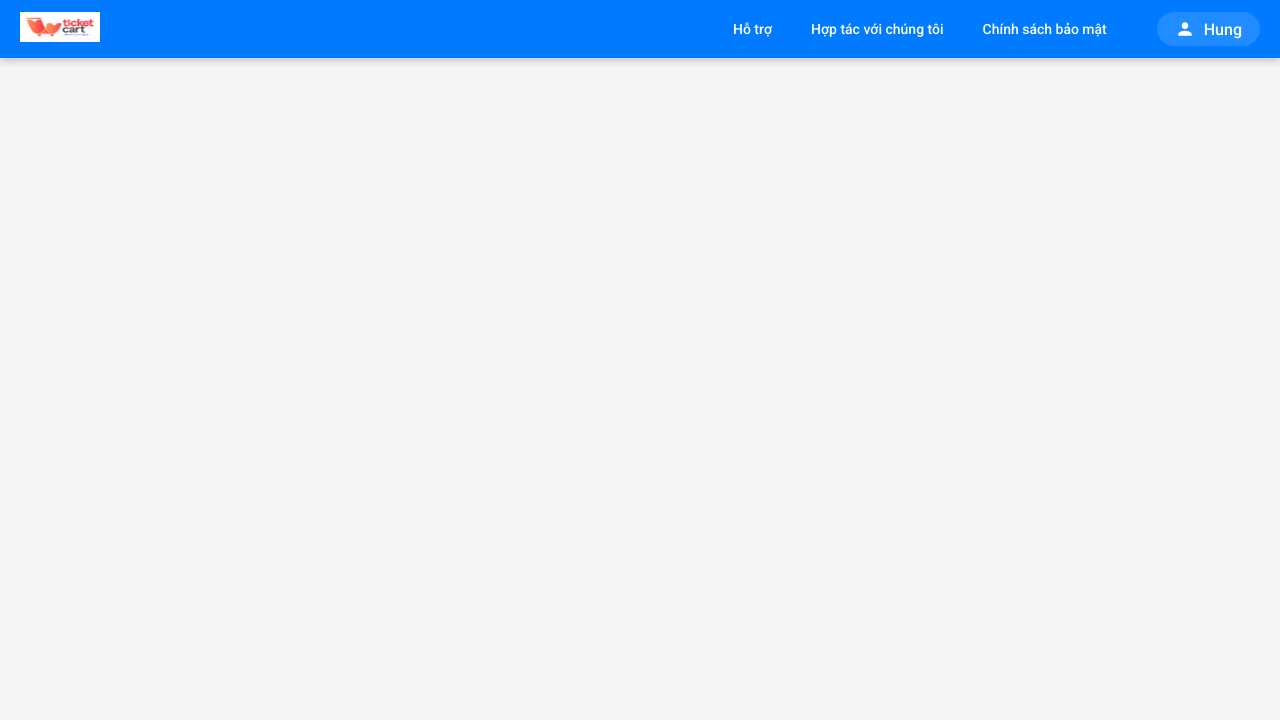
Test: Navbar Component › handles logout correctly
Click the text "Hung" at (1223, 29), box [1204, 20, 1242, 38]
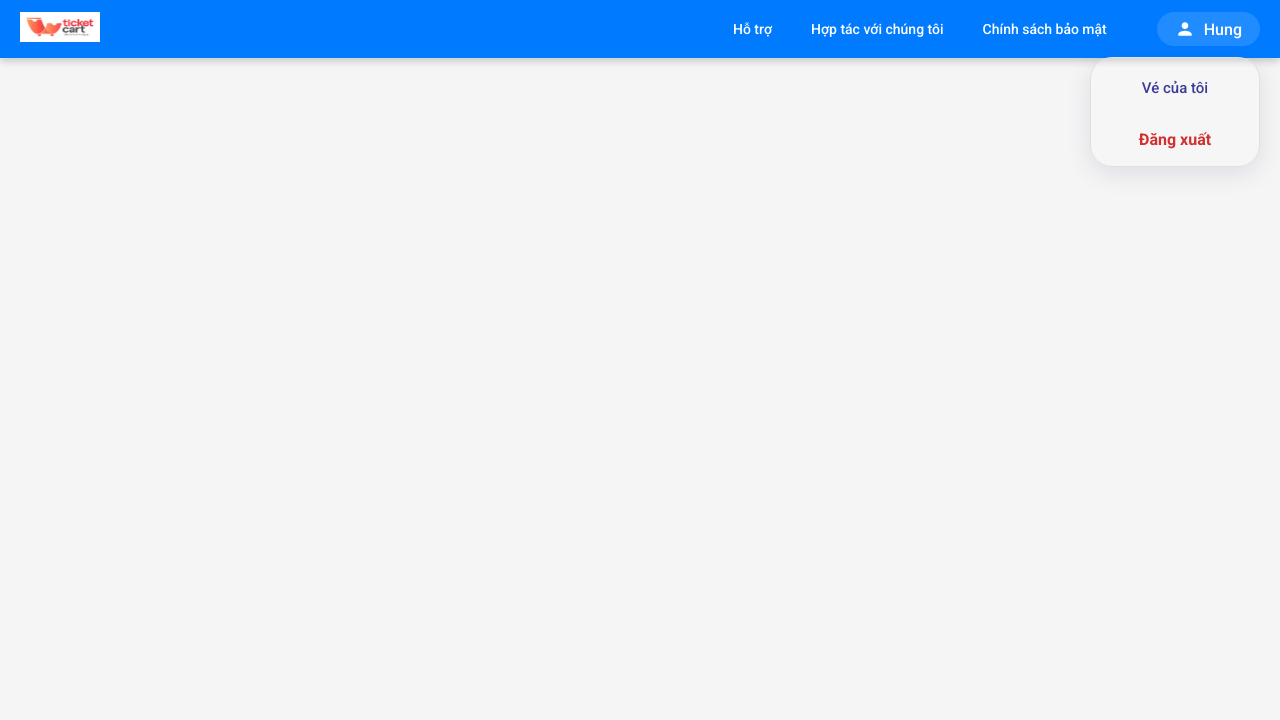
Click the button "Đăng xuất" at (1175, 140), box [1119, 120, 1231, 159]
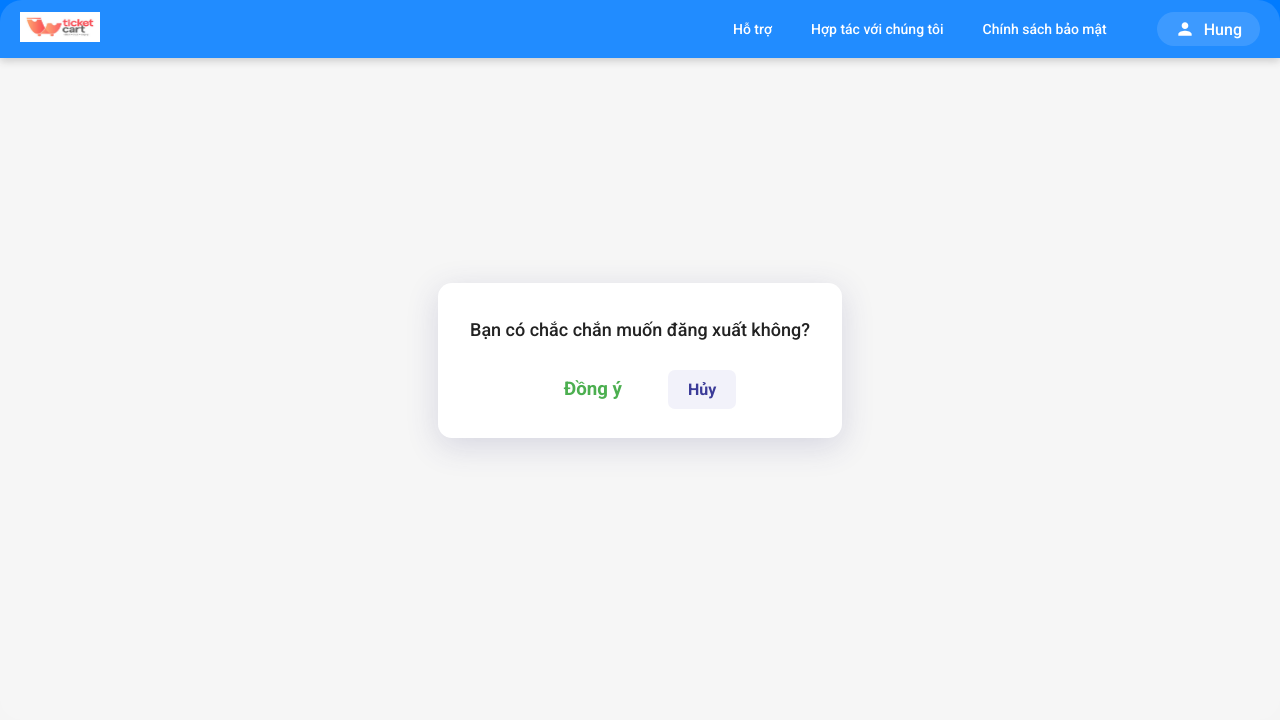
Check: the text "Bạn có chắc chắn muốn đăng xuất không?" is shown, box [470, 318, 810, 340]
Click the button "Đồng ý" at (593, 388), box [544, 368, 642, 410]
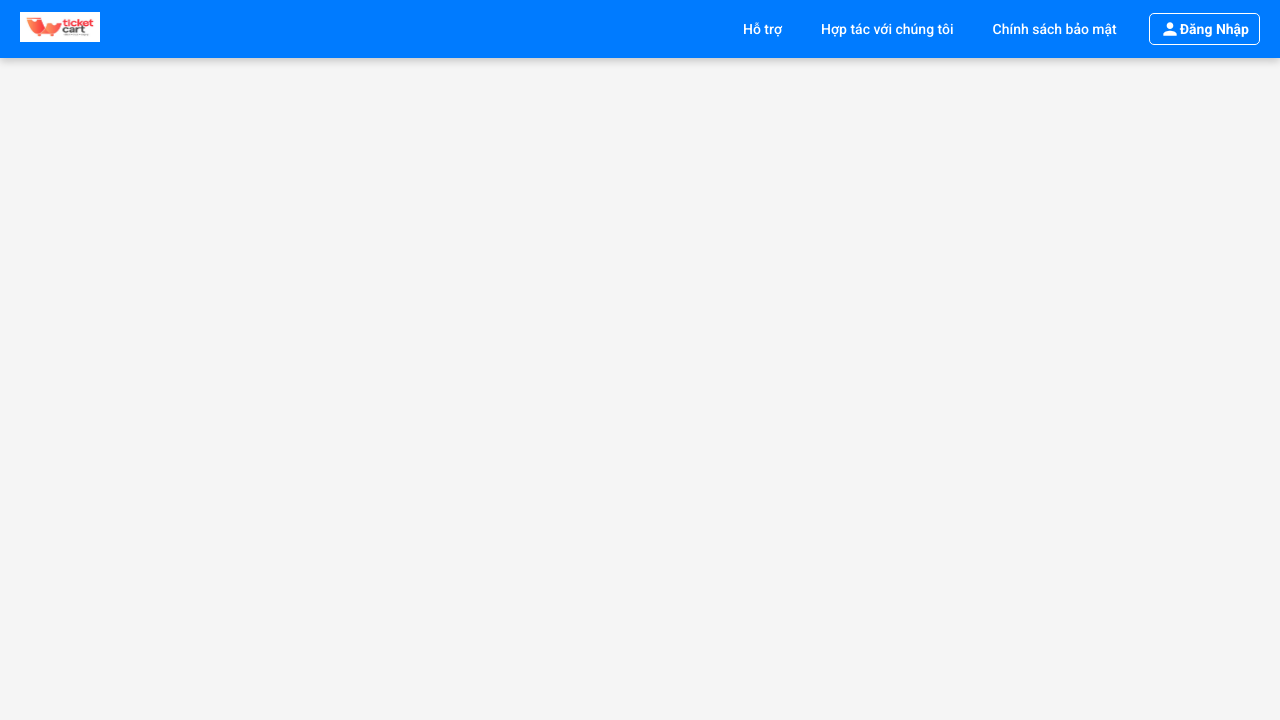
Check: the text "Đăng Nhập" is shown, box [1180, 21, 1249, 37]
